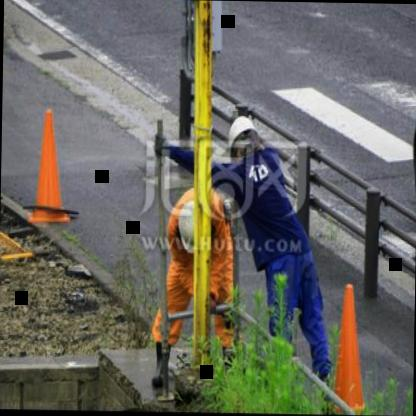helmet: (174, 199, 210, 253), (227, 116, 258, 160)
